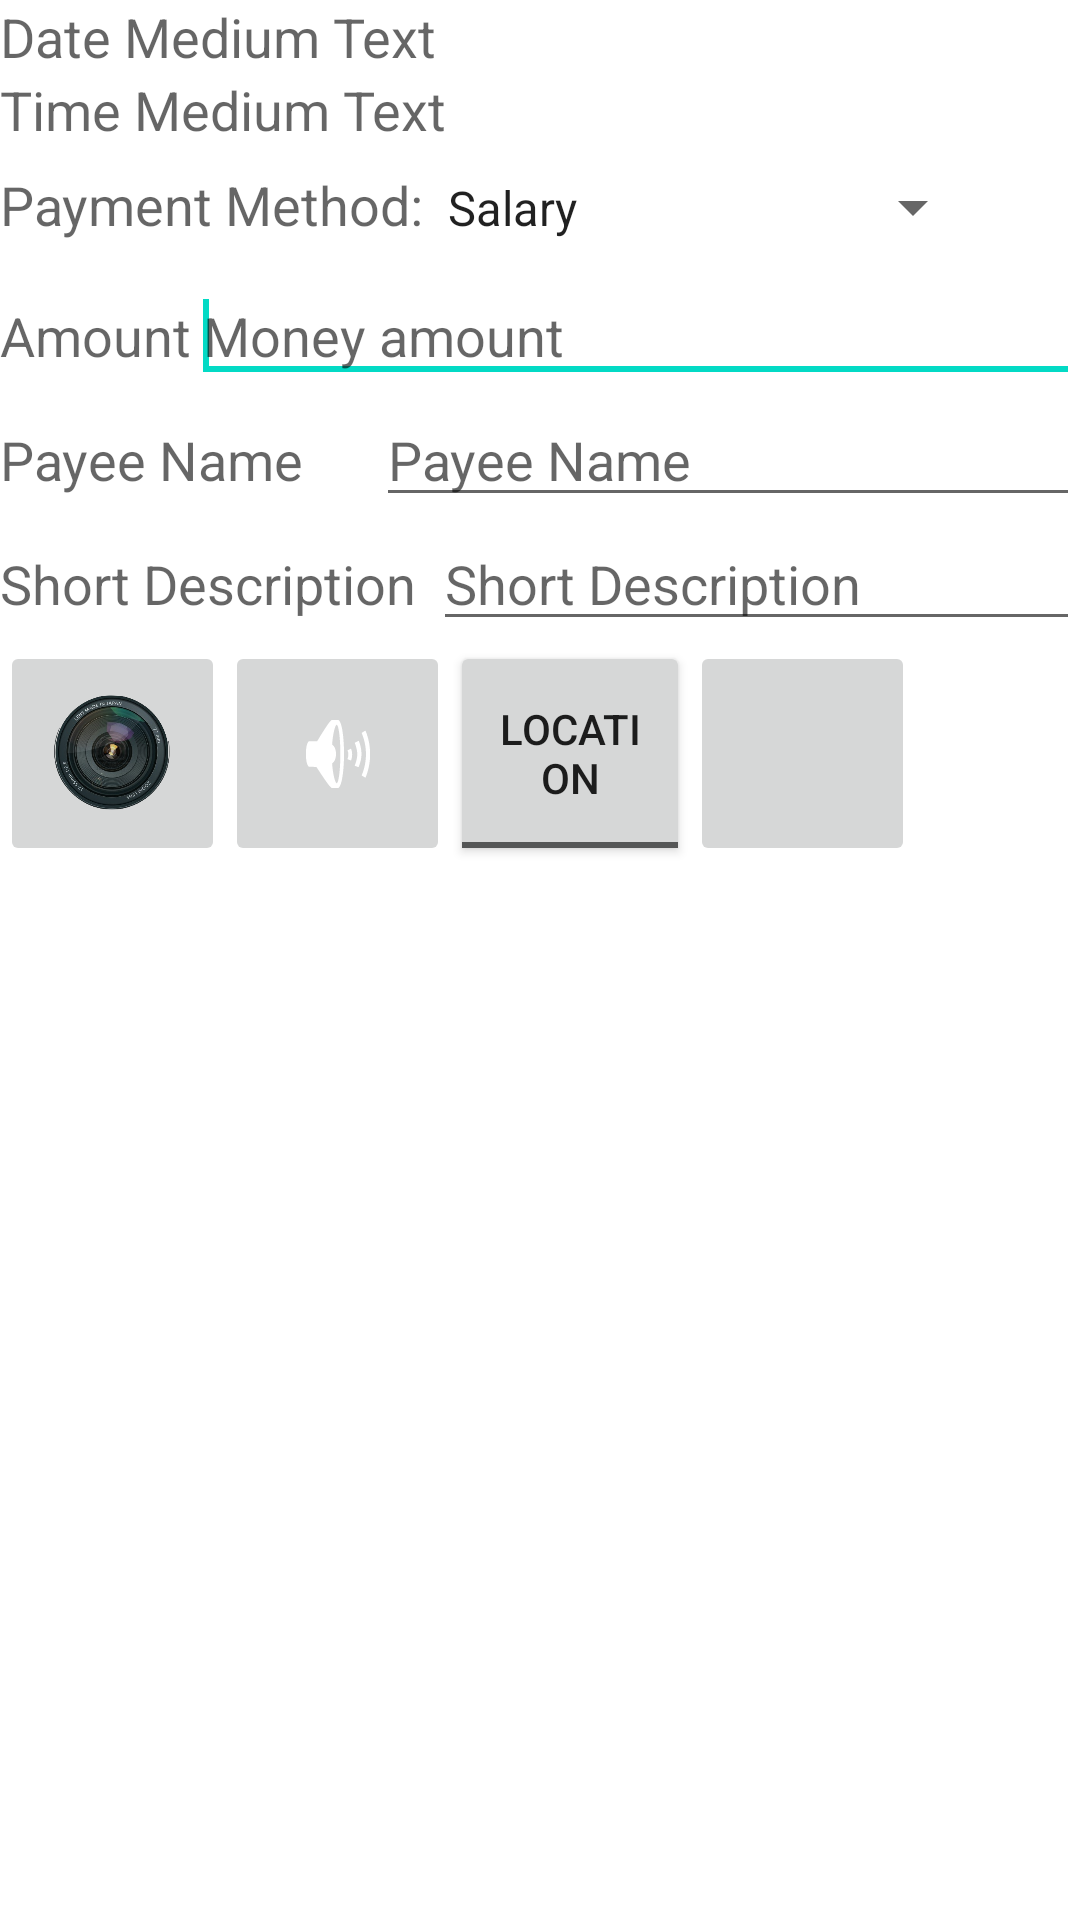

Named icons in this screenshot (1080*1920) and their centers, (x=x, y=y):
camera: (x=112, y=753)
lock silent mode off: (x=337, y=753)
